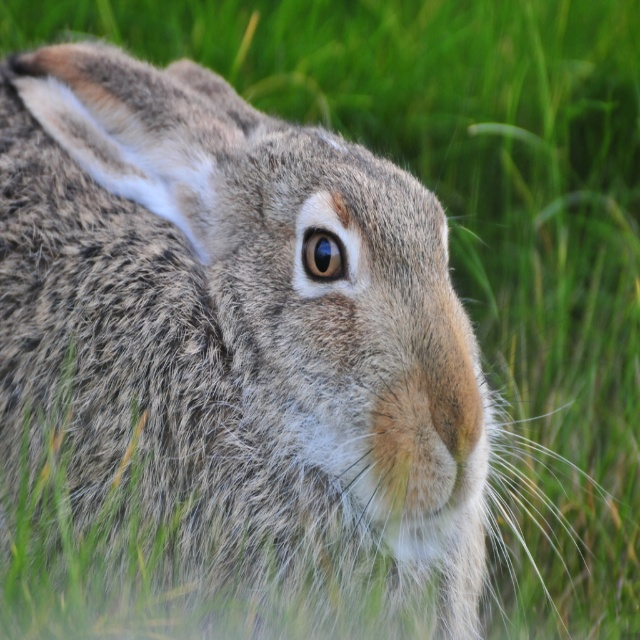Rabbit: (0, 33, 630, 640)
